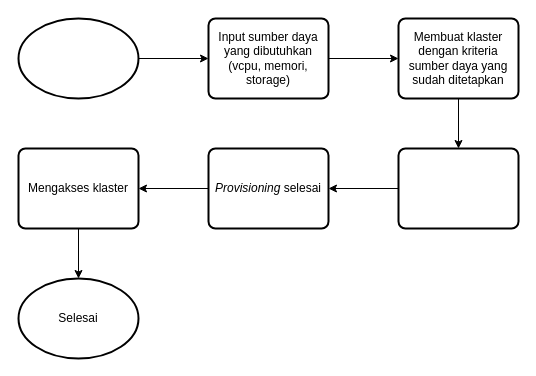
Some shapes in this 536 by 376 pixel diagram are drawn without their labels. Each missing label, with the centre of its shape:
"Menunggu hingga proses provisioning selesai" belongs at point (458, 188).
"Mulai" belongs at point (78, 58).
